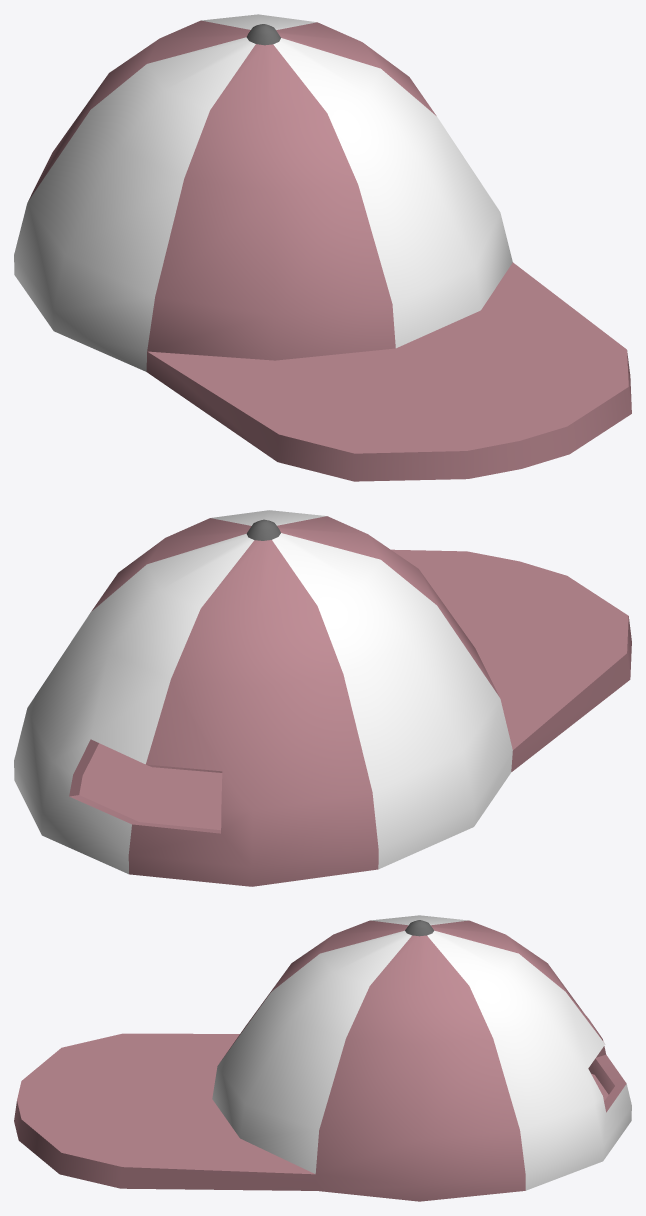
Rendered from Cap_3.fbx.
3 views of the same model, one above another, from view 1: azimuth 30°, elevation 25°; view 2: azimuth 150°, elevation 25°; view 3: azimuth 270°, elevation 25° (orthographic). The views are drawn at different scales.
Parts seen in each view (by area): view 1: Cap_3; view 2: Cap_3; view 3: Cap_3.
Part boxes in pixels (x1,y1,x2,y2): Cap_3: [14, 14, 631, 481]; Cap_3: [14, 510, 631, 886]; Cap_3: [14, 915, 631, 1201].
Size of the model in its own units: 0.151 by 0.0872 by 0.2443.
